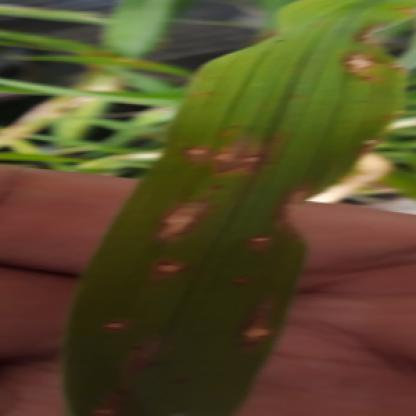Rice blast: (143, 184, 236, 245), (172, 137, 273, 169), (328, 48, 391, 98), (237, 294, 280, 367), (141, 258, 187, 287), (245, 230, 280, 262)
